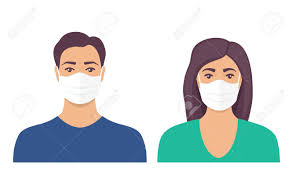masked: (47, 29, 111, 105)
